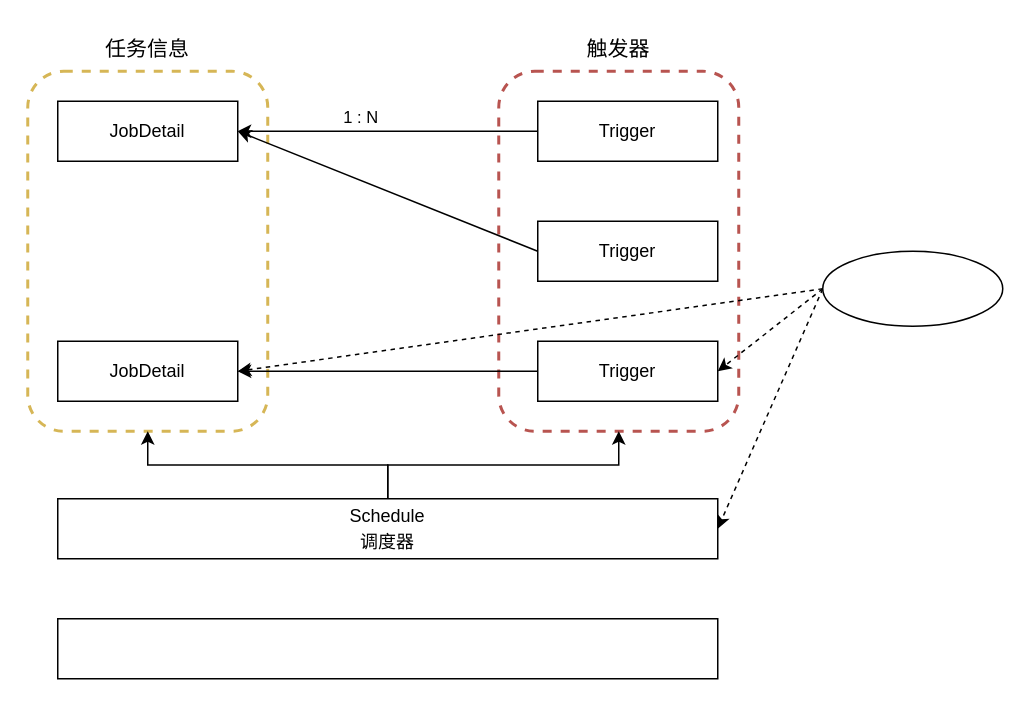
The diagram is 1029 pixels wide and 705 high, and some of its shapes have lost their labels. Here are the shapes that lost their labels. From the top down, the centre of each, then its label:
(x=912, y=288): Listener
(x=387, y=648): JobStore
